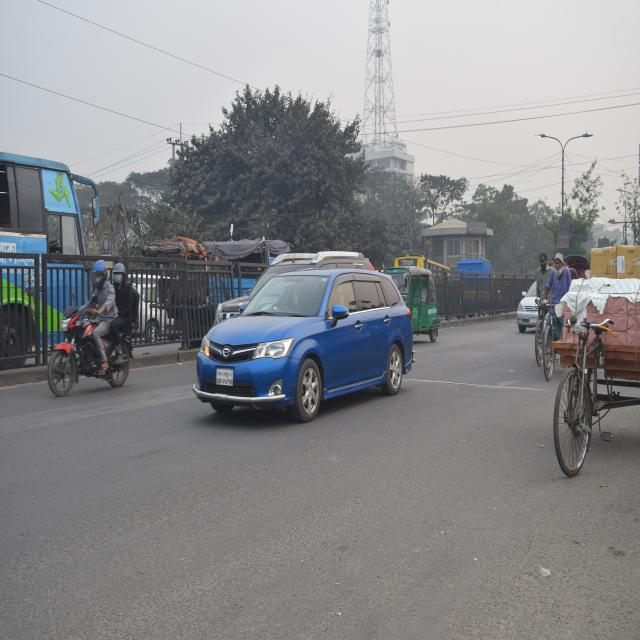car: (181, 251, 452, 439), (505, 263, 544, 344)
motorbike: (27, 292, 135, 402)
